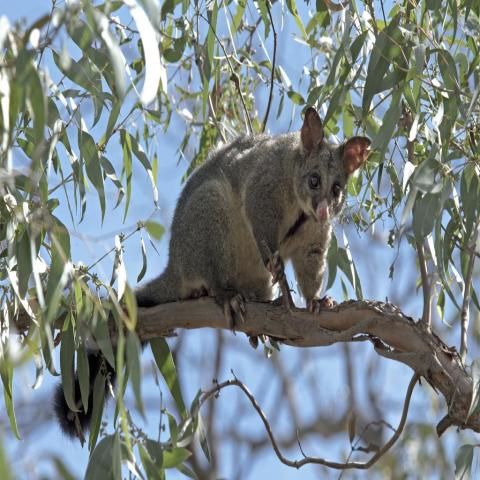small_animal: (51, 105, 372, 445)
